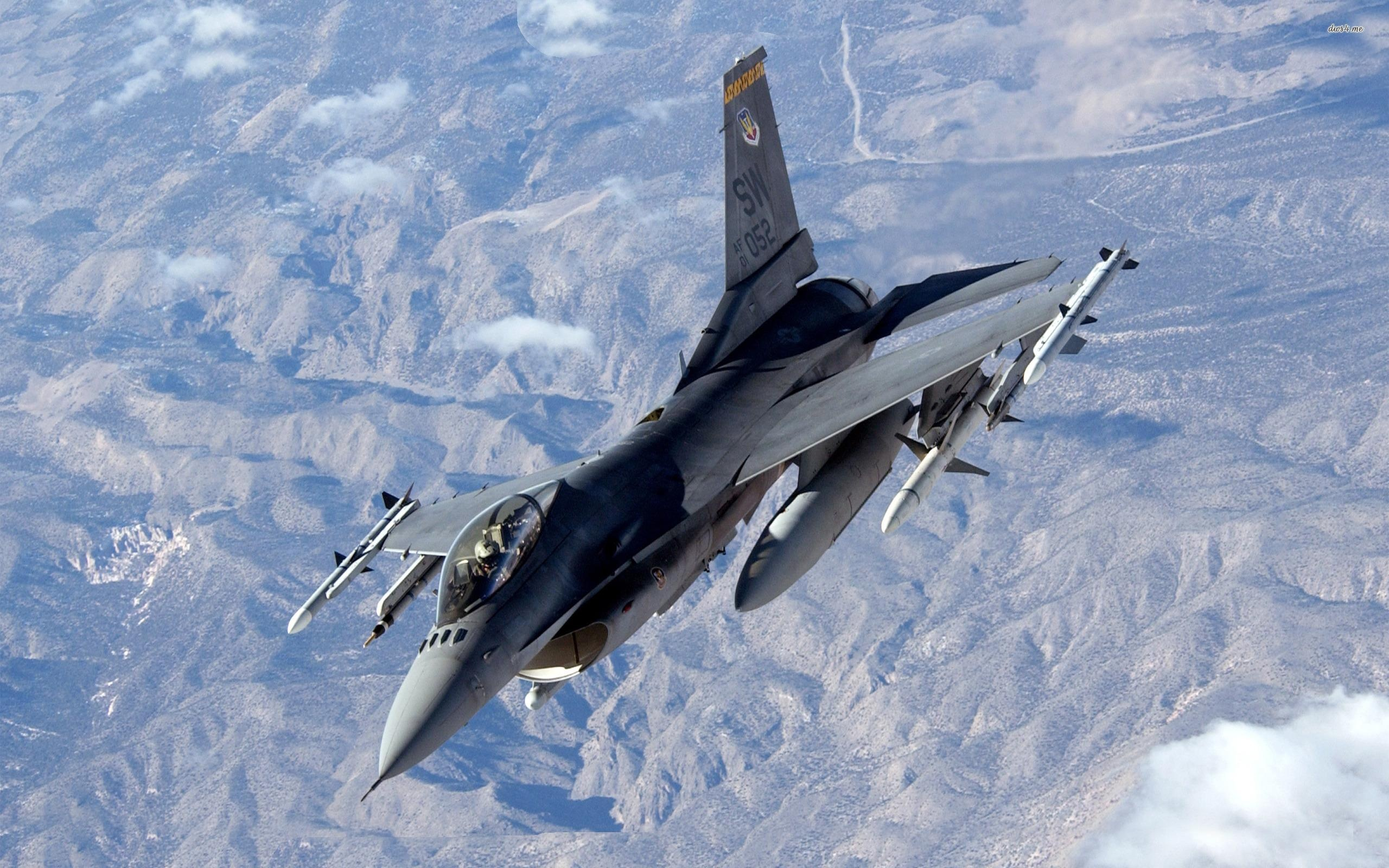aircraft: (345, 44, 1146, 803)
